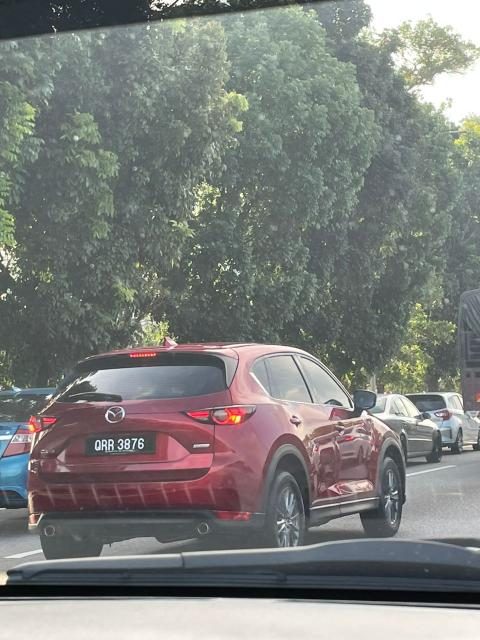License_Plate: (81, 433, 154, 456)
car: (18, 343, 421, 556)
